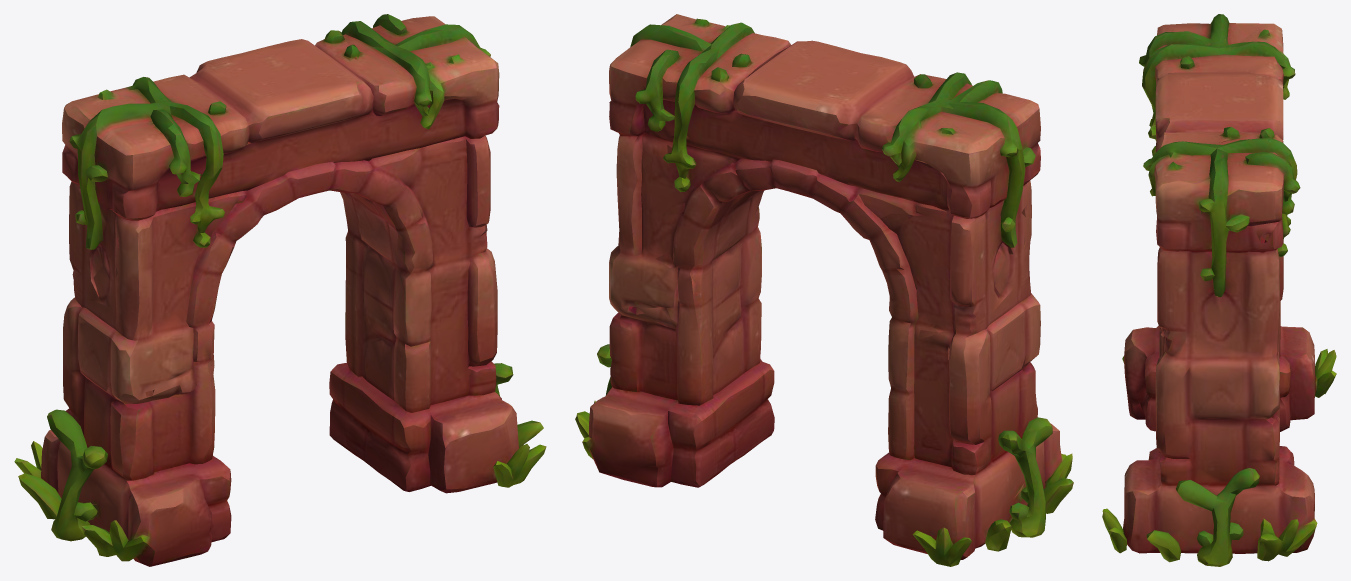
File: a-giant-crumbling-stone-arch-wit-cf4cfd.glb
The picture shows the model from 3 angles, left to right: view 1: azimuth 30°, elevation 25°; view 2: azimuth 150°, elevation 25°; view 3: azimuth 270°, elevation 25°; orthographic projection. The views are drawn at different scales.
Visible parts, largest first — view 1: geometry_0; view 2: geometry_0; view 3: geometry_0.
Boxes of the visible parts, x1,y1,x2,y2 form: geometry_0: [14, 14, 546, 566]; geometry_0: [575, 14, 1073, 566]; geometry_0: [1102, 14, 1336, 566].
Bounding box in the file's own units: 1 × 0.9019 × 0.5.
Materials: 1 (1 with a texture image).
